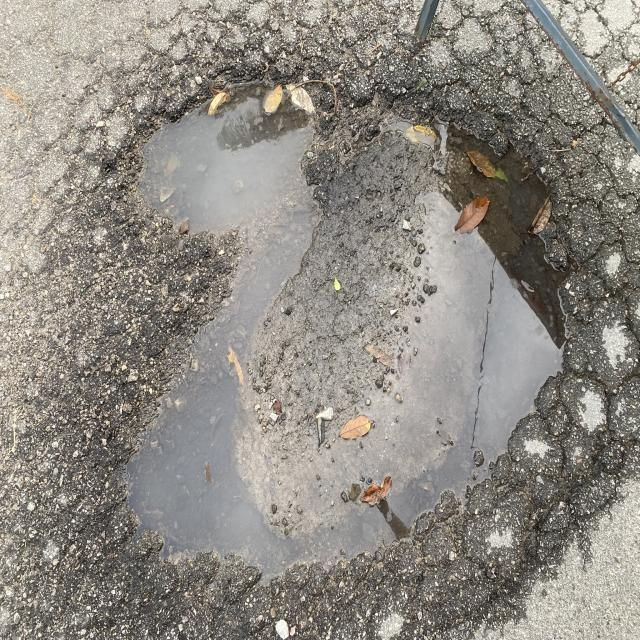pothole: (67, 39, 611, 606)
